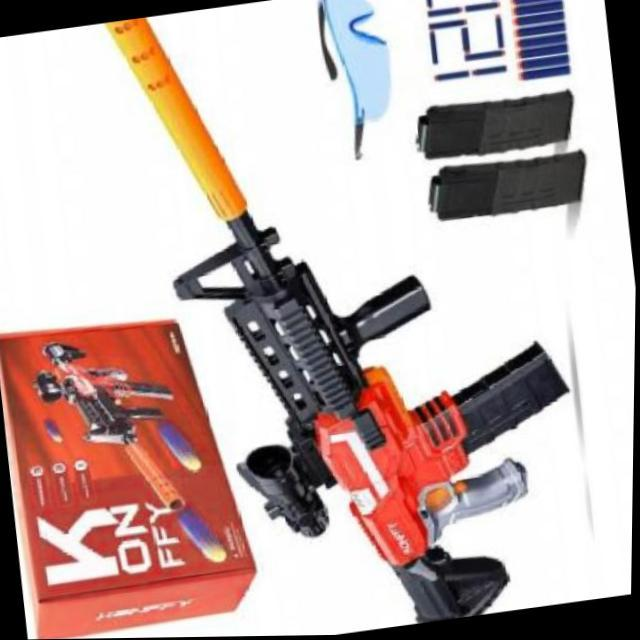weapon: (86, 0, 600, 639), (26, 320, 232, 586)
